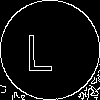L: (25, 25, 54, 72)
